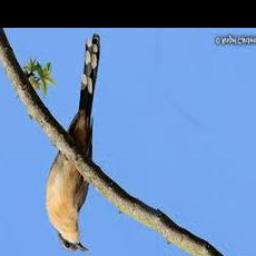Cuckoo: (46, 34, 100, 251)
